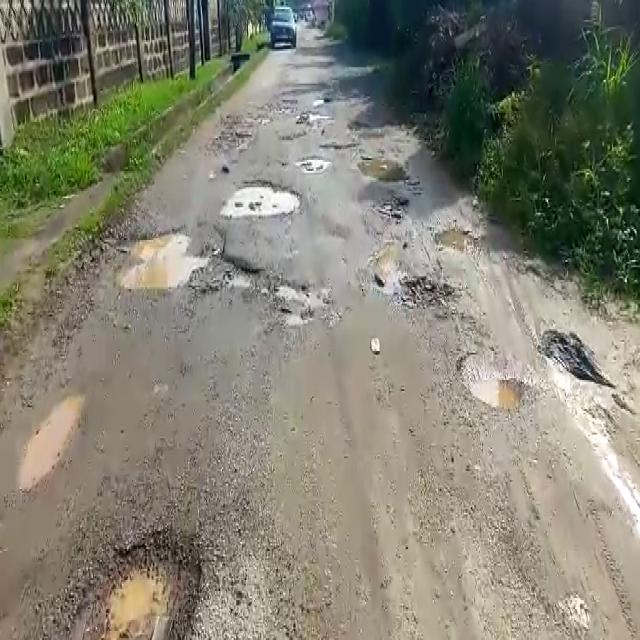Pothole: (84, 532, 215, 637), (110, 222, 250, 293), (20, 393, 84, 489), (456, 340, 530, 413), (539, 328, 605, 390), (221, 175, 304, 218), (273, 281, 332, 330), (393, 271, 460, 312), (435, 224, 477, 252), (298, 153, 332, 170)
